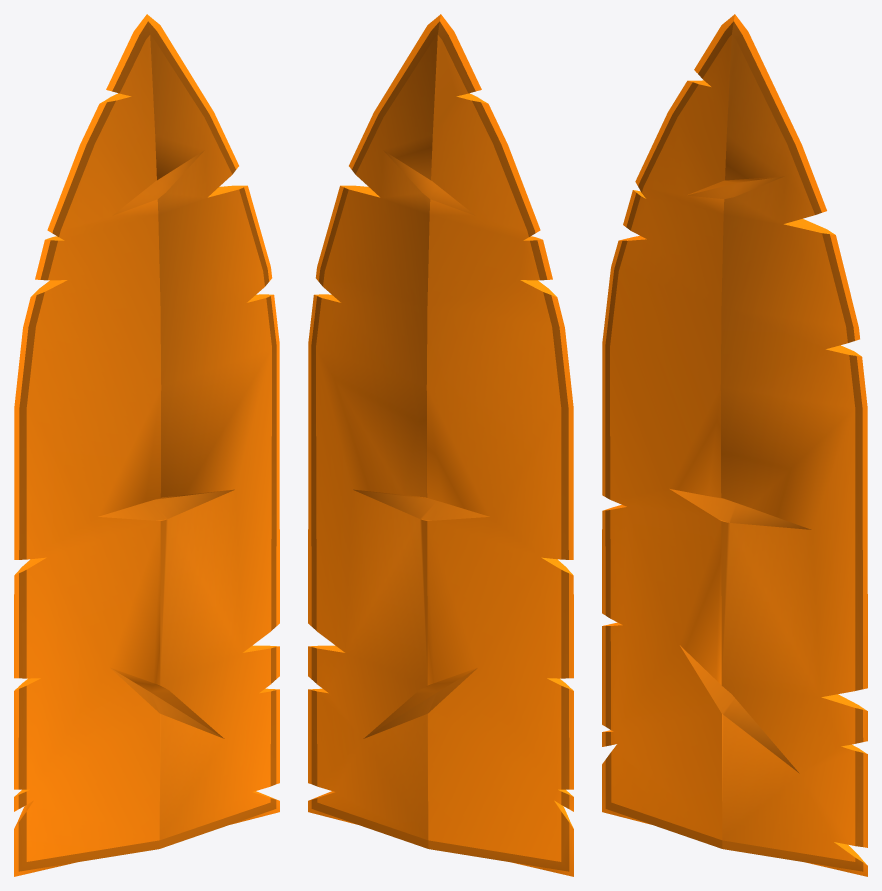
The model's file is bronze_blade_scratched_034.glb.
The picture shows the model from 3 angles, left to right: view 1: azimuth 30°, elevation 25°; view 2: azimuth 150°, elevation 25°; view 3: azimuth 330°, elevation 25°; orthographic projection.
Parts seen in each view (by area): view 1: bronze_blade_scratched.034; view 2: bronze_blade_scratched.034; view 3: bronze_blade_scratched.034.
Part boxes in pixels (left/top/right/bottom): bronze_blade_scratched.034: left=14, top=14, right=279, bottom=876; bronze_blade_scratched.034: left=308, top=14, right=573, bottom=876; bronze_blade_scratched.034: left=602, top=14, right=867, bottom=876.
Size of the model in its own units: 3.82 by 11.43 by 0.706.
Materials: 1 (1 with a texture image).
